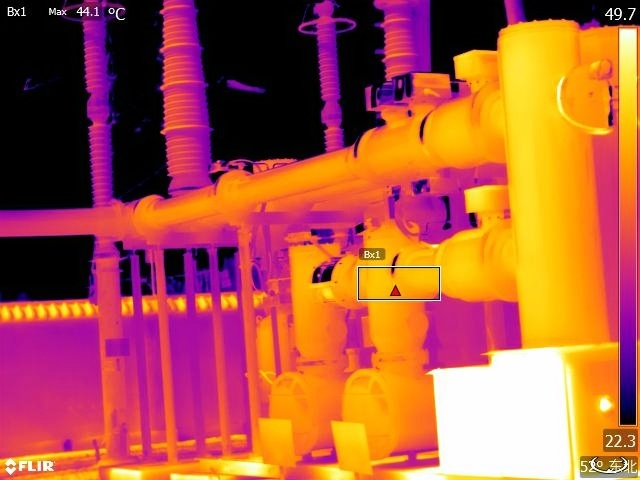lightning arrester: (58, 3, 127, 274), (296, 1, 361, 158)
tube: (145, 1, 216, 185), (361, 1, 426, 76)
